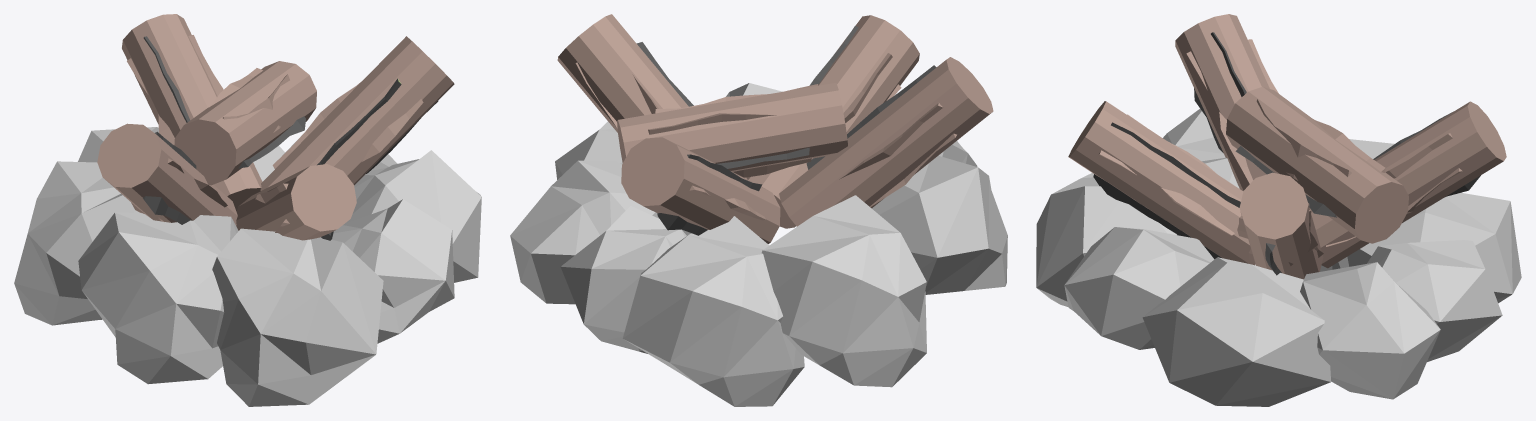
Rendered from campfire.glb.
The picture shows the model from 3 angles, left to right: view 1: azimuth 30°, elevation 25°; view 2: azimuth 150°, elevation 25°; view 3: azimuth 270°, elevation 25°; orthographic projection. The views are drawn at different scales.
Parts seen in each view (by area): view 1: group274423456, group1752019066, group269152740, group352431030, group1096764015, group185603279, group782009115, group1784804928, group1857617045, group1657609557, group194423690, group2020176064; view 2: group352431030, group194423690, group1784804928, group1096764015, group1752019066, group782009115, group1864895328, group2020176064, group269152740, group1657609557, group1857617045, group274423456; view 3: group1857617045, group1096764015, group1657609557, group1864895328, group185603279, group782009115, group2020176064, group1784804928, group274423456, group194423690, group269152740, group1752019066 (+1 smaller).
Boxes of the visible parts, <box> form: group274423456: <box>212,228,383,406</box>; group1752019066: <box>78,212,238,384</box>; group269152740: <box>260,36,454,190</box>; group352431030: <box>14,161,139,325</box>; group1096764015: <box>174,61,316,185</box>; group185603279: <box>332,199,454,343</box>; group782009115: <box>122,14,262,211</box>; group1784804928: <box>97,123,237,225</box>; group1857617045: <box>345,150,481,282</box>; group1657609557: <box>236,164,356,240</box>; group194423690: <box>78,127,158,162</box>; group2020176064: <box>253,145,284,181</box>; group352431030: <box>761,195,926,387</box>; group194423690: <box>622,216,804,406</box>; group1784804928: <box>779,57,993,226</box>; group1096764015: <box>617,82,847,177</box>; group1752019066: <box>872,155,1007,294</box>; group782009115: <box>621,137,780,243</box>; group1864895328: <box>510,160,659,304</box>; group2020176064: <box>560,206,686,353</box>; group269152740: <box>557,14,746,178</box>; group1657609557: <box>746,15,919,228</box>; group1857617045: <box>555,121,691,235</box>; group274423456: <box>894,93,977,166</box>; group1857617045: <box>1142,257,1330,406</box>; group1096764015: <box>1226,87,1408,243</box>; group1657609557: <box>1068,101,1255,265</box>; group1864895328: <box>1300,262,1440,399</box>; group185603279: <box>1064,227,1214,349</box>; group782009115: <box>1309,101,1506,268</box>; group2020176064: <box>1367,240,1502,361</box>; group1784804928: <box>1175,14,1278,190</box>; group274423456: <box>1036,173,1176,306</box>; group194423690: <box>1338,192,1521,303</box>; group269152740: <box>1237,172,1323,279</box>; group1752019066: <box>1163,109,1239,188</box>.
Size of the model in its own units: 0.6058 by 0.3671 by 0.6235.
